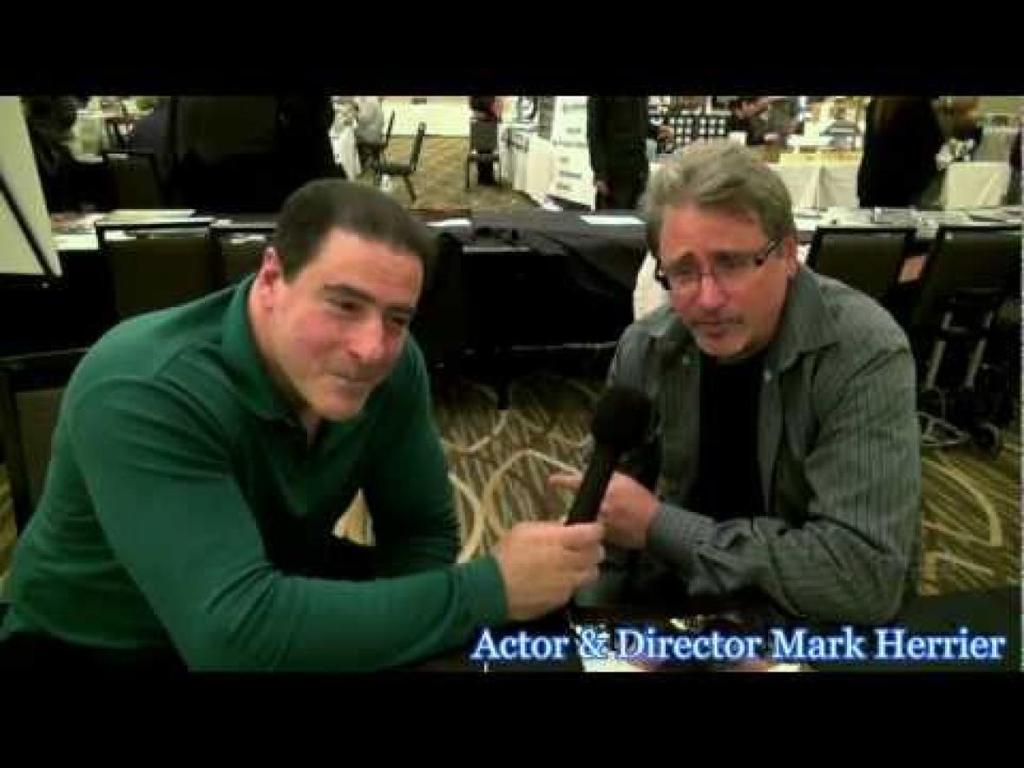face: (272, 208, 416, 420), (656, 192, 772, 374)
